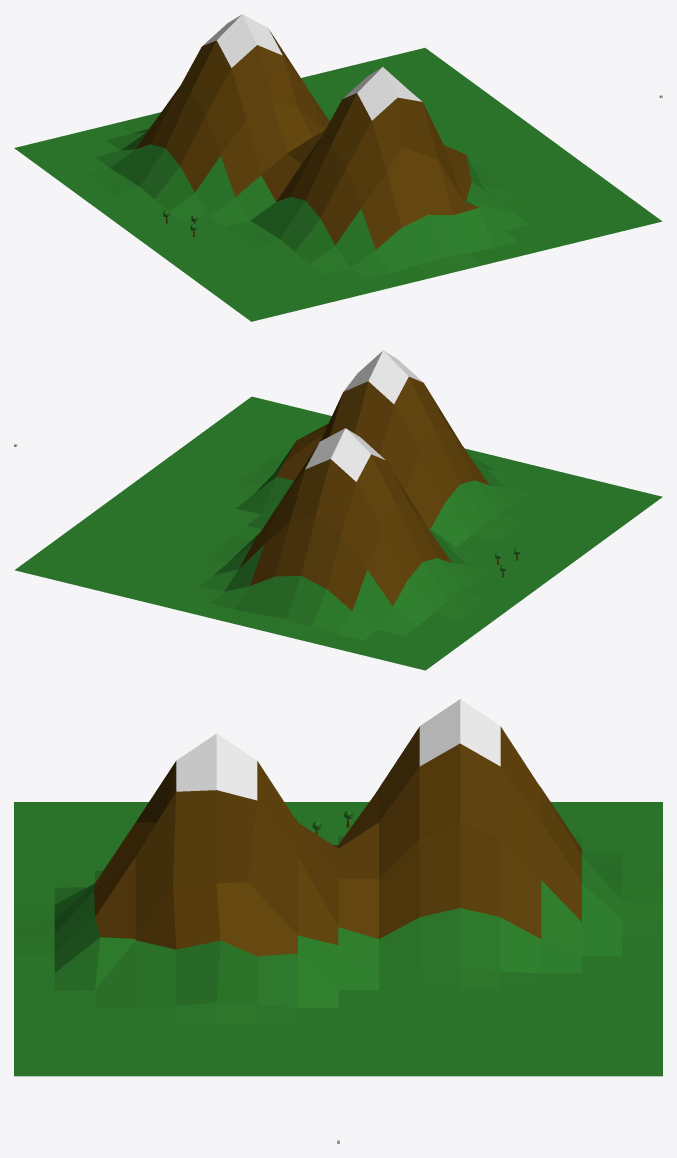
File: map-test.glb
3 renders of one model, top to bottom at view 1: azimuth 30°, elevation 25°; view 2: azimuth 150°, elevation 25°; view 3: azimuth 270°, elevation 25°, orthographic. The views are drawn at different scales.
Parts seen in each view (by area): view 1: Plane; view 2: Plane; view 3: Plane.
Boxes of the visible parts, x1,y1,x2,y2 form: Plane: (14,14,662,321); Plane: (15,350,662,670); Plane: (14,699,662,1076).
Bounding box in the file's own units: 515 × 140 × 400.
